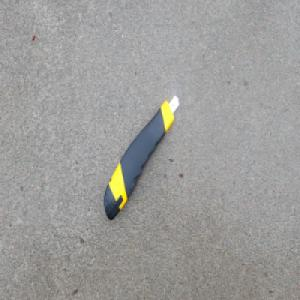Cutter: (103, 93, 180, 222)
